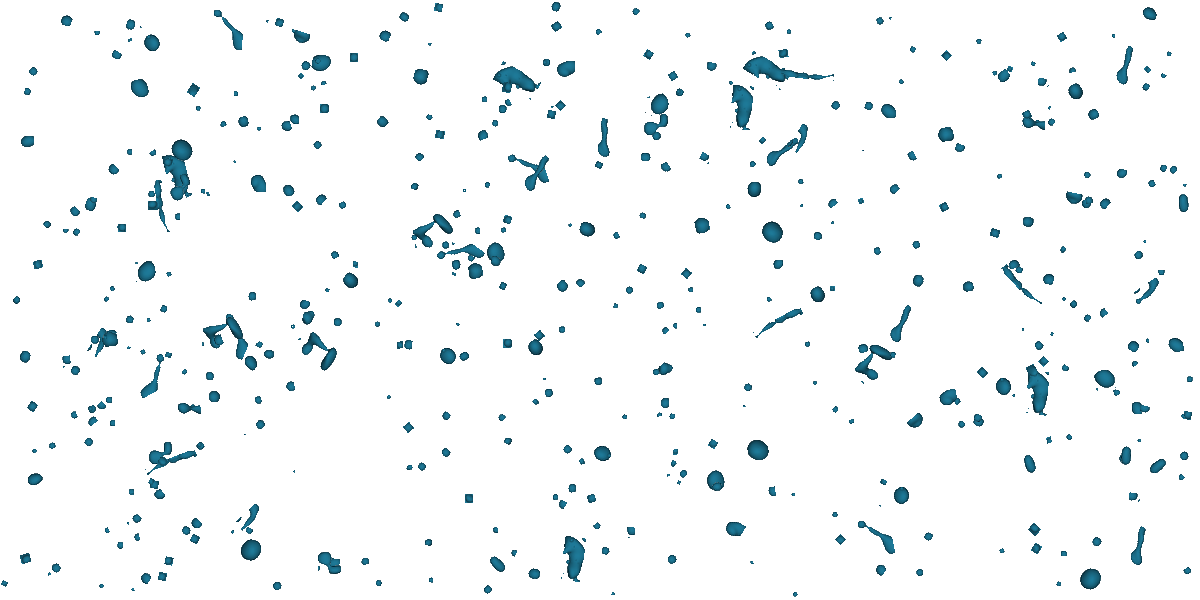Detached ligament: (845, 333, 902, 389), (293, 323, 348, 379), (435, 230, 486, 280), (127, 352, 177, 399), (408, 206, 458, 253), (212, 312, 257, 361), (506, 145, 550, 193), (492, 60, 542, 102), (742, 50, 792, 92), (1000, 263, 1043, 309), (856, 515, 896, 560), (752, 306, 804, 339), (882, 304, 923, 345), (517, 154, 559, 194), (202, 312, 245, 351), (1108, 45, 1146, 87), (1122, 525, 1159, 568), (161, 151, 193, 200), (209, 9, 246, 51), (144, 448, 198, 476), (589, 117, 622, 159), (559, 535, 587, 583), (762, 137, 804, 168), (728, 84, 755, 131), (1025, 370, 1050, 416), (164, 172, 196, 204), (153, 179, 170, 234), (234, 502, 265, 532), (1132, 276, 1164, 304), (780, 67, 835, 83), (787, 122, 814, 154), (86, 326, 113, 358), (642, 112, 669, 138), (316, 549, 342, 576), (147, 441, 173, 466), (176, 399, 202, 418), (1021, 115, 1046, 132)
drop: (481, 238, 511, 268), (701, 466, 731, 496), (758, 217, 787, 247), (168, 135, 196, 165), (1077, 566, 1104, 592), (721, 517, 747, 542), (889, 483, 914, 508), (991, 374, 1016, 399), (646, 92, 671, 117), (238, 538, 264, 562), (127, 77, 151, 102), (339, 270, 363, 294), (140, 31, 164, 55), (1093, 368, 1117, 392), (487, 552, 510, 577), (1064, 81, 1087, 105), (524, 337, 547, 361), (806, 284, 829, 308), (1145, 456, 1170, 478), (654, 359, 677, 382), (591, 442, 614, 465), (134, 260, 157, 283), (747, 438, 769, 462), (310, 53, 334, 75), (240, 351, 262, 373), (23, 468, 45, 490), (437, 345, 459, 367), (577, 220, 599, 241), (937, 388, 959, 409), (906, 411, 927, 432), (1164, 335, 1185, 355), (300, 308, 319, 329), (411, 67, 430, 88), (1118, 445, 1135, 468), (1022, 453, 1039, 476), (248, 173, 267, 193), (693, 214, 711, 235), (877, 102, 897, 120), (291, 29, 312, 46), (1140, 4, 1159, 22), (556, 61, 575, 79), (467, 260, 484, 280), (935, 126, 955, 143), (745, 181, 762, 200), (1177, 193, 1191, 215), (995, 68, 1013, 85), (1124, 337, 1142, 354), (1078, 196, 1096, 213), (1064, 191, 1084, 206), (554, 278, 571, 295), (1116, 450, 1133, 467), (374, 114, 391, 131), (376, 27, 393, 43), (17, 348, 33, 365), (910, 272, 926, 289), (281, 182, 297, 199), (100, 332, 118, 347), (83, 197, 99, 213), (105, 162, 121, 178), (188, 516, 204, 532), (58, 12, 74, 28), (1088, 534, 1104, 550), (297, 58, 313, 74), (970, 415, 986, 431), (124, 17, 140, 33), (1085, 106, 1101, 122), (823, 195, 839, 210), (83, 413, 99, 428), (152, 487, 167, 503), (873, 562, 888, 578), (313, 191, 328, 207), (1097, 195, 1112, 211), (1040, 271, 1056, 286), (296, 298, 312, 313), (1113, 167, 1129, 182), (49, 561, 64, 577), (67, 363, 82, 379), (252, 417, 267, 433), (663, 552, 679, 567), (186, 82, 201, 98), (658, 161, 673, 176), (138, 571, 153, 586), (95, 400, 110, 415), (1094, 306, 1109, 321), (886, 181, 901, 196), (67, 205, 82, 220), (527, 566, 542, 581), (179, 523, 194, 538), (1027, 522, 1042, 537), (326, 557, 341, 571), (953, 142, 968, 156), (904, 150, 918, 165), (475, 128, 490, 142), (211, 333, 225, 348), (698, 151, 713, 165), (554, 498, 568, 513), (109, 49, 124, 63), (1025, 363, 1039, 378), (457, 349, 472, 363), (104, 328, 118, 342), (1166, 162, 1180, 176), (676, 466, 690, 480), (811, 229, 825, 243), (397, 10, 411, 24), (236, 115, 250, 129), (280, 119, 293, 134), (1130, 401, 1143, 415), (1138, 404, 1152, 417), (771, 259, 785, 272), (287, 112, 300, 126), (653, 298, 667, 311), (1178, 449, 1191, 463), (829, 99, 842, 112), (415, 460, 428, 473), (741, 381, 754, 394), (311, 139, 324, 152), (194, 440, 207, 453), (574, 276, 587, 289), (413, 150, 426, 163), (481, 583, 494, 596), (27, 65, 40, 78), (561, 443, 574, 456), (873, 14, 886, 27), (11, 294, 24, 307), (1068, 298, 1081, 311), (41, 217, 54, 230), (650, 130, 663, 143), (130, 512, 143, 525), (1132, 249, 1145, 262), (554, 99, 567, 112), (834, 533, 847, 546), (680, 267, 693, 280), (402, 421, 415, 434), (1030, 542, 1043, 555), (19, 552, 32, 565), (156, 455, 169, 468), (291, 200, 304, 213), (642, 48, 655, 61), (940, 49, 953, 62), (954, 418, 967, 431), (1032, 339, 1045, 352), (439, 446, 452, 459), (1037, 355, 1050, 368), (550, 20, 563, 33), (26, 400, 39, 413), (976, 366, 989, 379), (533, 329, 546, 342), (711, 480, 724, 493), (1022, 216, 1035, 229), (1007, 258, 1021, 270), (21, 136, 34, 148), (284, 380, 296, 393), (765, 486, 777, 499), (857, 342, 870, 354), (209, 389, 221, 402), (491, 255, 503, 268), (910, 238, 922, 251), (971, 412, 984, 424), (763, 19, 775, 32), (501, 81, 513, 94), (450, 258, 462, 271), (550, 0, 562, 13), (271, 580, 283, 592), (599, 545, 611, 557), (124, 314, 136, 326), (70, 226, 82, 238), (1081, 312, 1093, 324), (1045, 116, 1057, 128), (1182, 565, 1194, 577), (674, 87, 686, 99), (440, 410, 452, 422), (83, 436, 95, 448), (863, 100, 875, 112), (543, 387, 555, 399), (502, 434, 514, 446), (329, 248, 341, 260), (450, 208, 462, 220), (667, 70, 679, 82), (707, 438, 719, 450), (989, 227, 1001, 239), (938, 201, 950, 213), (1021, 109, 1033, 121), (1056, 31, 1068, 43), (189, 533, 201, 545), (636, 263, 648, 275), (962, 280, 974, 292), (1037, 77, 1050, 88), (61, 355, 72, 368), (640, 151, 652, 162), (871, 245, 882, 257), (252, 394, 263, 406), (402, 339, 413, 351), (1140, 81, 1151, 93), (337, 200, 349, 211), (159, 303, 170, 315), (1146, 178, 1157, 190), (1013, 265, 1025, 276), (623, 285, 635, 296), (914, 566, 925, 578), (147, 200, 159, 211), (32, 259, 44, 270), (434, 129, 446, 140), (626, 526, 636, 539), (1128, 492, 1141, 502), (659, 325, 670, 336), (923, 531, 934, 542), (1060, 363, 1071, 374), (496, 412, 507, 423), (630, 6, 641, 17), (1128, 358, 1139, 369), (409, 180, 420, 191), (423, 536, 434, 547), (274, 17, 285, 28), (157, 571, 168, 582), (778, 48, 789, 59), (502, 214, 513, 225), (747, 158, 758, 169), (498, 224, 509, 235), (1175, 472, 1186, 483), (145, 188, 156, 199), (592, 521, 603, 532), (1057, 245, 1068, 256), (577, 457, 588, 468), (531, 397, 542, 408), (433, 2, 444, 13), (163, 157, 174, 168), (586, 493, 597, 504), (546, 109, 557, 120), (706, 62, 717, 72), (332, 317, 343, 327), (90, 334, 100, 345), (659, 398, 669, 409), (503, 98, 513, 109), (148, 148, 159, 158), (1158, 163, 1168, 174), (23, 86, 33, 97), (69, 410, 79, 421), (244, 526, 255, 536), (508, 548, 518, 559), (253, 339, 264, 349), (464, 493, 474, 504), (312, 56, 322, 67), (592, 27, 603, 37), (498, 104, 508, 115), (482, 179, 492, 190), (1064, 432, 1074, 443), (668, 459, 678, 470), (403, 463, 414, 473), (349, 52, 359, 63), (264, 349, 275, 359), (653, 99, 663, 109), (1158, 72, 1168, 82), (318, 77, 328, 87), (1082, 170, 1092, 180), (651, 367, 661, 377), (205, 371, 215, 381), (542, 58, 552, 68), (611, 231, 621, 241), (466, 254, 476, 264), (593, 376, 603, 386), (594, 160, 604, 170), (498, 281, 508, 291), (374, 578, 384, 588), (907, 45, 917, 55), (567, 483, 577, 493), (247, 291, 257, 301), (409, 232, 419, 242), (117, 223, 127, 233), (164, 556, 174, 566), (360, 556, 371, 565), (1112, 386, 1121, 397), (441, 239, 450, 250), (830, 509, 839, 520), (654, 409, 664, 418), (424, 113, 434, 122), (974, 36, 983, 46), (667, 412, 676, 422), (48, 441, 57, 450), (723, 202, 732, 211), (764, 295, 773, 304), (88, 405, 97, 414), (180, 368, 189, 377), (102, 526, 111, 535), (831, 405, 840, 414), (1085, 195, 1094, 204), (150, 480, 159, 489), (320, 104, 329, 113), (758, 136, 767, 145), (394, 299, 403, 308), (1143, 65, 1152, 74), (1183, 411, 1192, 420), (503, 339, 512, 348), (0, 579, 9, 588), (147, 477, 156, 486), (953, 397, 962, 406), (219, 119, 228, 128), (888, 350, 897, 359), (995, 172, 1004, 181), (102, 295, 111, 304), (500, 340, 510, 348), (491, 526, 499, 536), (796, 177, 806, 185), (1134, 296, 1142, 306), (803, 339, 811, 349), (61, 228, 70, 236), (670, 321, 678, 330), (558, 325, 566, 334), (116, 541, 124, 550), (1059, 549, 1068, 557), (108, 419, 116, 428), (1157, 269, 1166, 277), (847, 418, 856, 426), (879, 478, 888, 486), (164, 351, 173, 359), (1186, 375, 1194, 384), (694, 305, 702, 314), (479, 95, 488, 103), (104, 396, 113, 404), (108, 284, 116, 293), (620, 413, 629, 421), (174, 212, 181, 222), (474, 226, 481, 236), (897, 78, 905, 86), (1029, 60, 1037, 68), (491, 119, 499, 127), (139, 348, 147, 356), (1055, 580, 1063, 588), (791, 590, 799, 598), (396, 341, 404, 349), (1045, 436, 1053, 444), (1006, 65, 1014, 73), (297, 72, 305, 80), (857, 197, 865, 205), (385, 394, 393, 402), (726, 79, 734, 87), (551, 493, 559, 501), (998, 547, 1006, 555), (684, 31, 692, 39), (144, 316, 152, 324), (1165, 50, 1173, 58), (829, 219, 837, 227), (798, 202, 806, 210), (1010, 392, 1018, 400), (30, 447, 38, 455), (97, 582, 105, 590), (323, 286, 331, 294), (386, 296, 394, 304), (1179, 412, 1187, 420), (1060, 295, 1068, 303), (1067, 66, 1076, 73), (199, 187, 206, 195), (427, 576, 434, 584), (90, 197, 98, 204), (233, 90, 240, 98), (93, 30, 101, 37), (128, 488, 135, 496), (672, 448, 679, 456), (639, 212, 647, 219), (194, 105, 202, 112), (134, 533, 140, 542), (785, 28, 792, 35), (566, 222, 573, 229), (454, 321, 461, 328), (229, 528, 236, 535), (352, 261, 359, 268), (829, 285, 836, 292), (1109, 32, 1116, 39), (1143, 337, 1150, 344), (255, 125, 262, 132), (1020, 326, 1027, 333), (701, 322, 708, 329), (541, 376, 548, 383), (289, 323, 296, 330), (102, 333, 109, 340), (461, 187, 468, 194), (126, 148, 132, 155), (687, 287, 694, 293), (374, 321, 380, 327), (613, 303, 619, 309), (749, 560, 755, 566), (665, 472, 671, 478), (1046, 105, 1052, 111), (877, 503, 883, 509), (138, 24, 144, 30), (310, 85, 316, 91), (992, 70, 998, 76), (1049, 331, 1055, 337), (116, 225, 122, 231), (205, 191, 211, 197), (127, 37, 133, 43), (451, 271, 457, 277), (166, 271, 172, 277), (126, 345, 132, 351), (290, 28, 296, 34), (130, 587, 136, 593), (46, 571, 52, 577), (264, 18, 270, 24), (887, 15, 893, 21), (450, 241, 456, 247), (291, 468, 297, 474), (812, 380, 818, 386), (789, 492, 796, 497), (1135, 438, 1142, 443), (1182, 183, 1188, 188), (1142, 239, 1147, 245), (427, 42, 433, 47), (242, 432, 248, 437), (860, 148, 866, 153), (125, 520, 130, 526), (741, 403, 747, 408), (550, 104, 555, 109), (611, 592, 617, 596), (677, 480, 681, 485), (232, 160, 237, 164)
